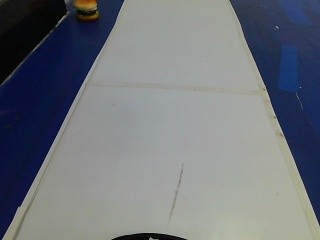burger: (64, 0, 104, 27)
